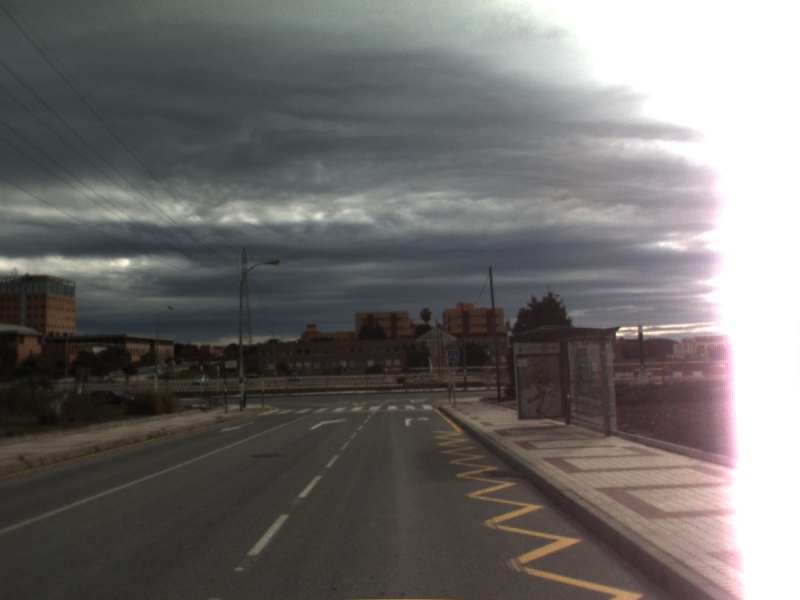RIGHT: (307, 416, 350, 432), (402, 414, 432, 428)
